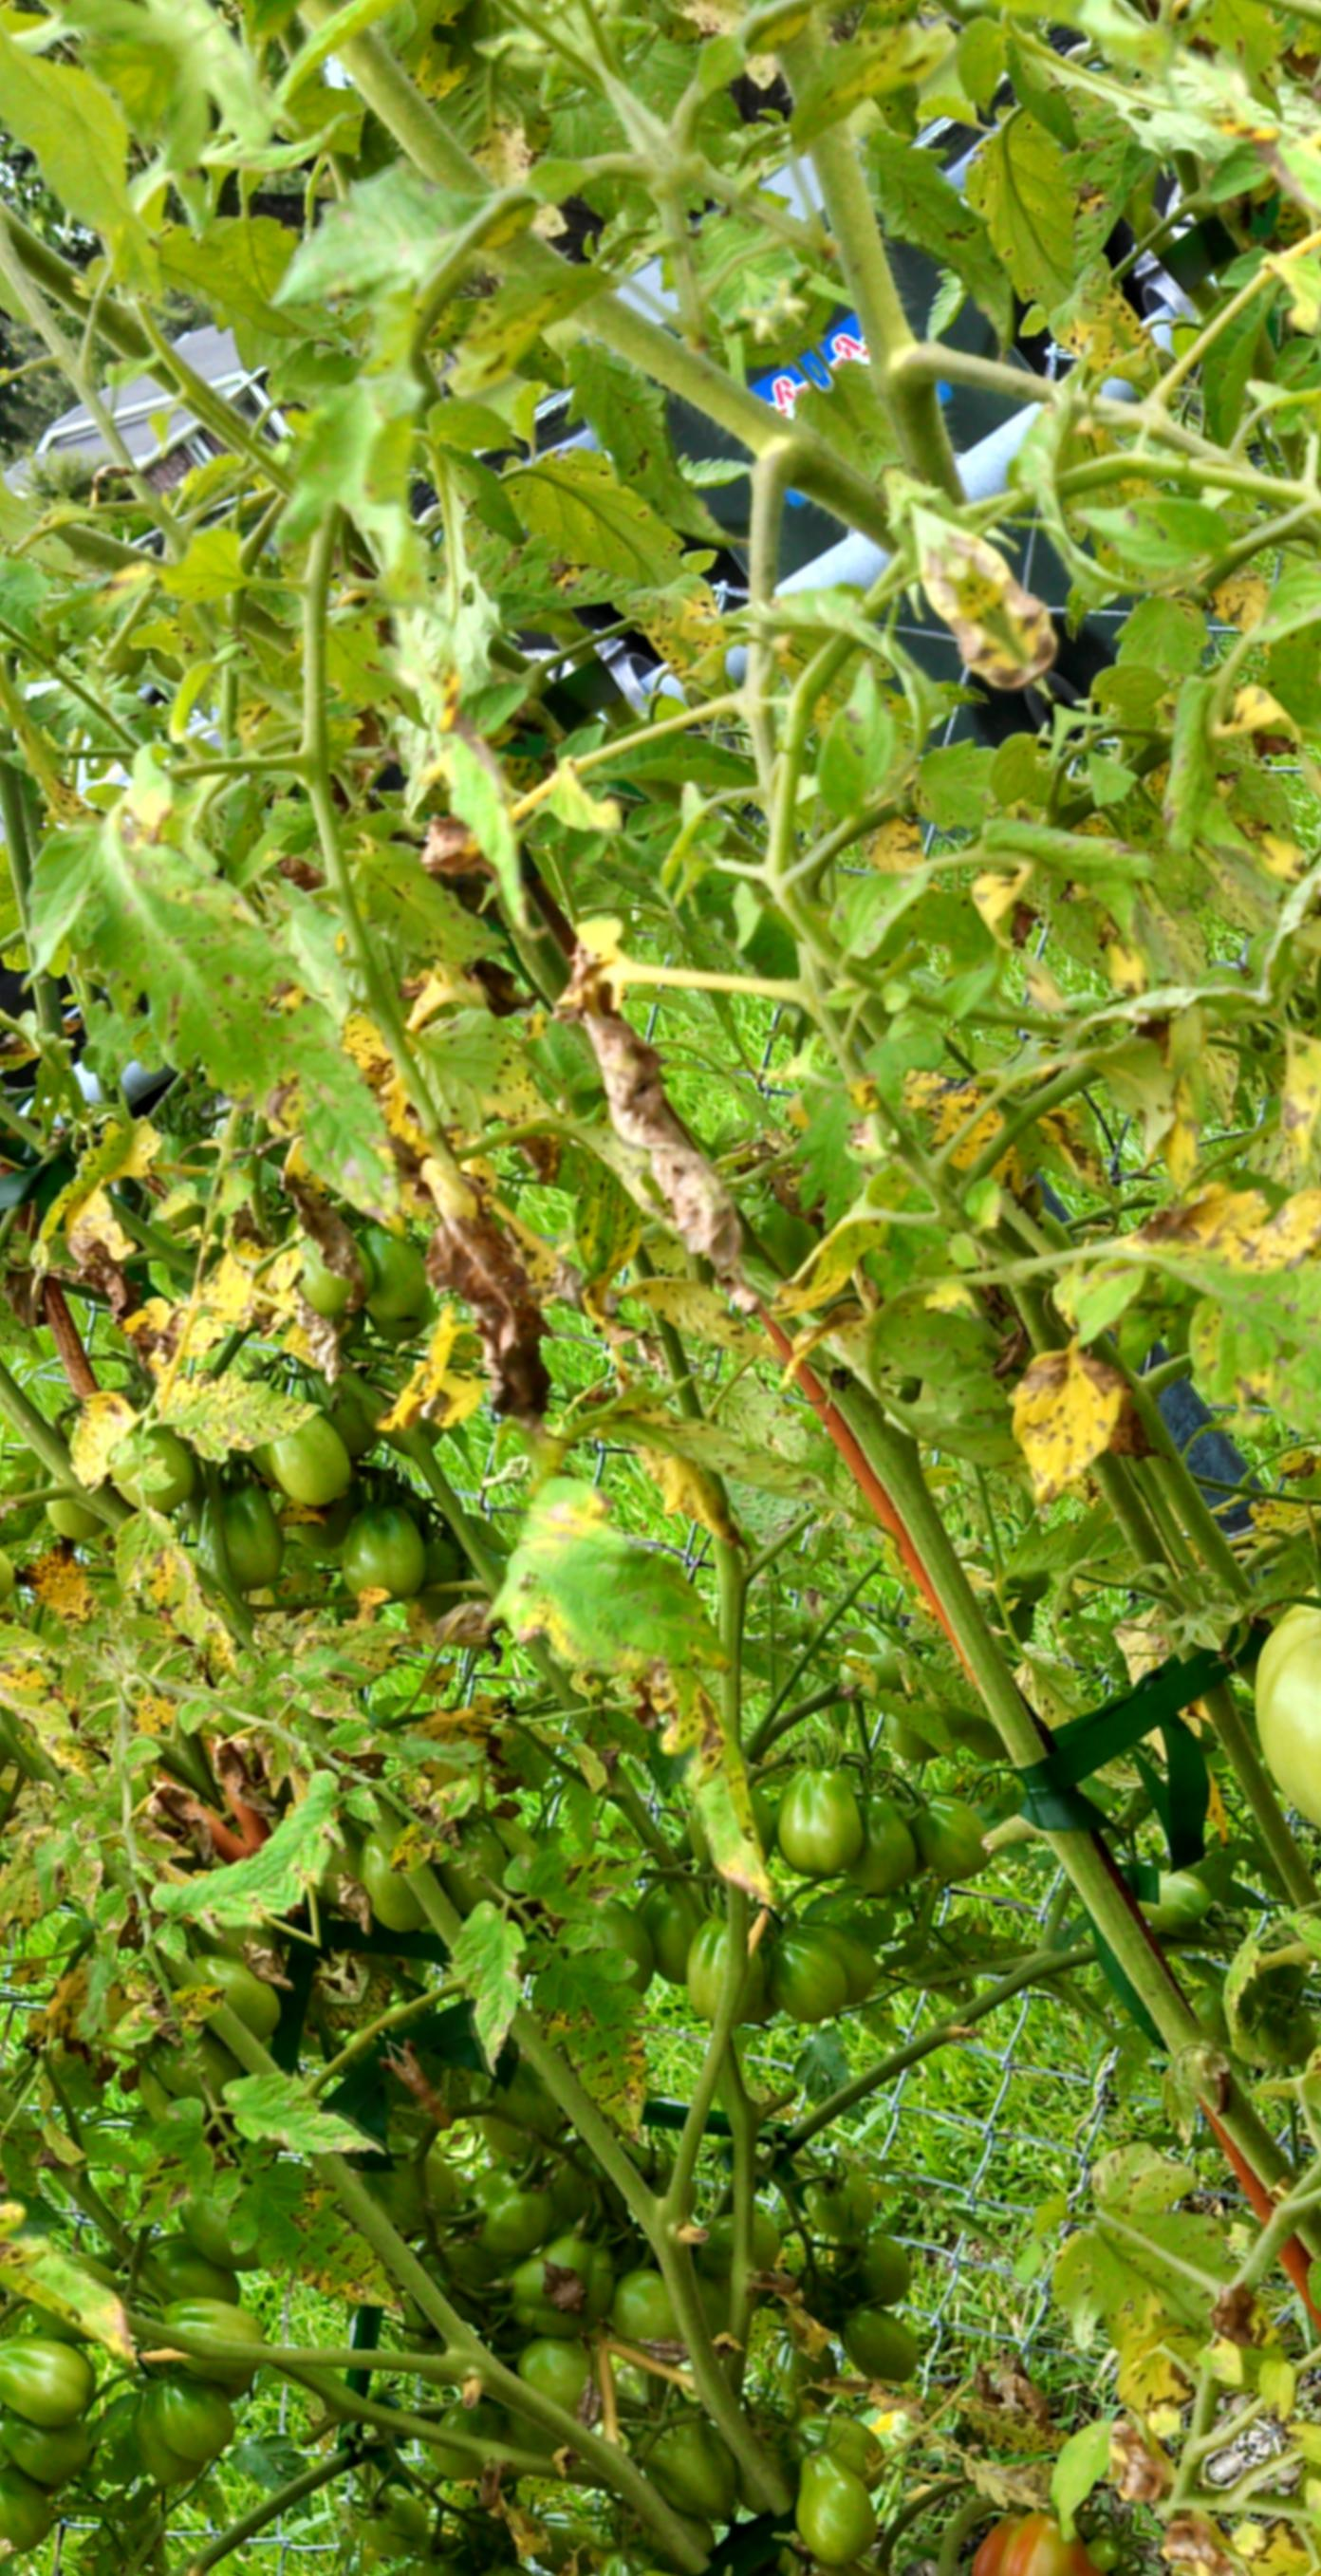Tomato Septoria leaf spot: (56, 794, 490, 1306), (1132, 1137, 1321, 1619)
